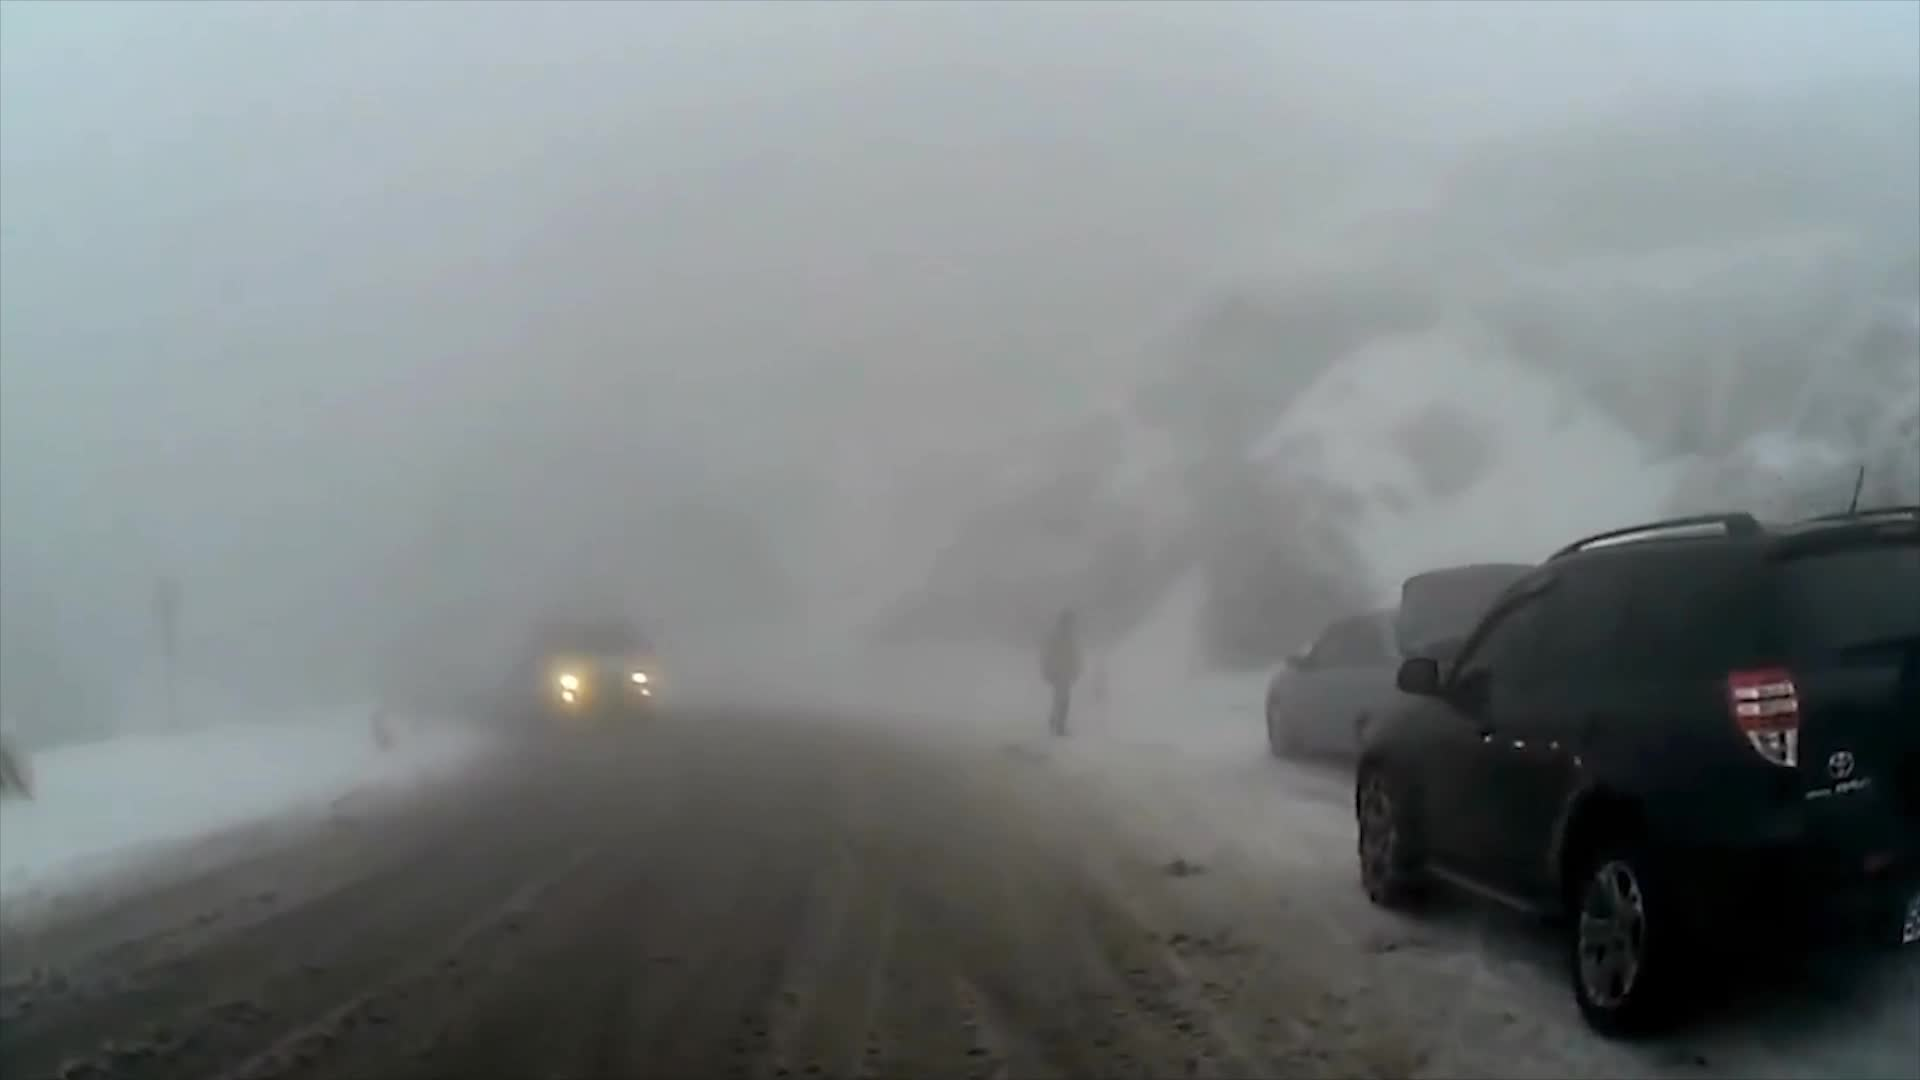pedestrian: (1036, 613, 1083, 732)
vehicle: (1354, 504, 1920, 1039), (1261, 557, 1586, 775), (525, 596, 660, 723)
